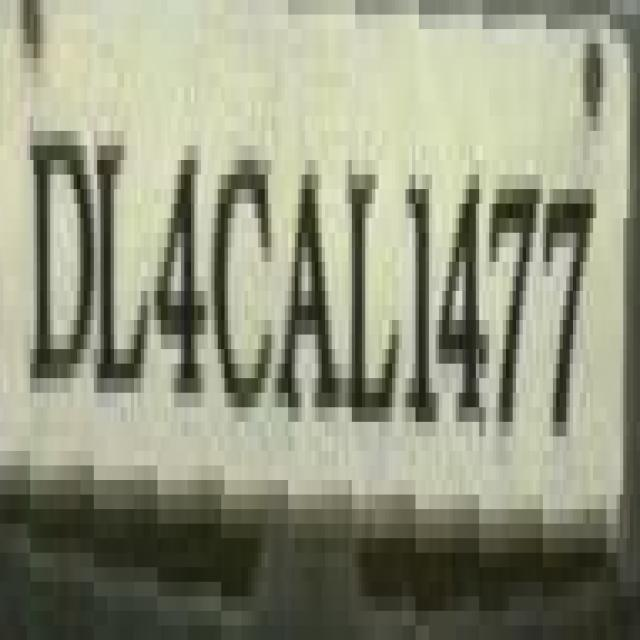license_plate: (30, 0, 640, 582)
